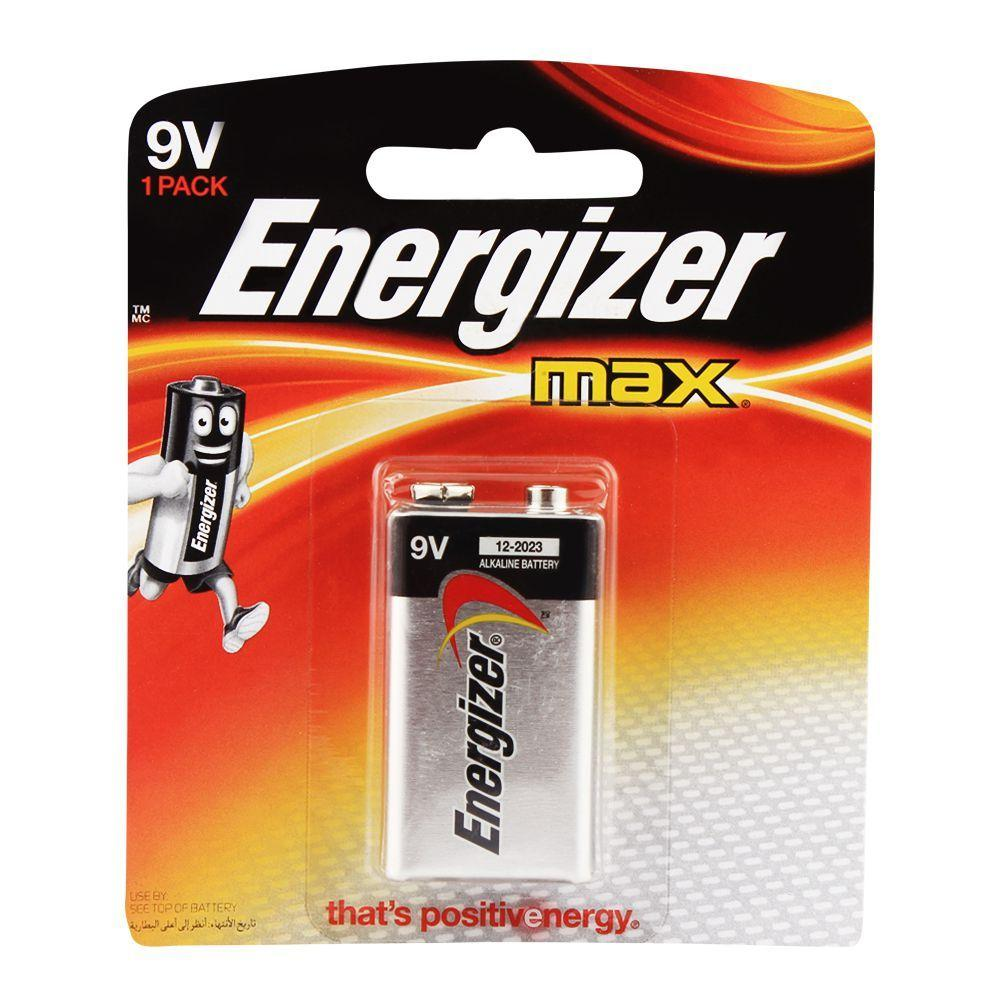9V Battery: (384, 484, 604, 884)
